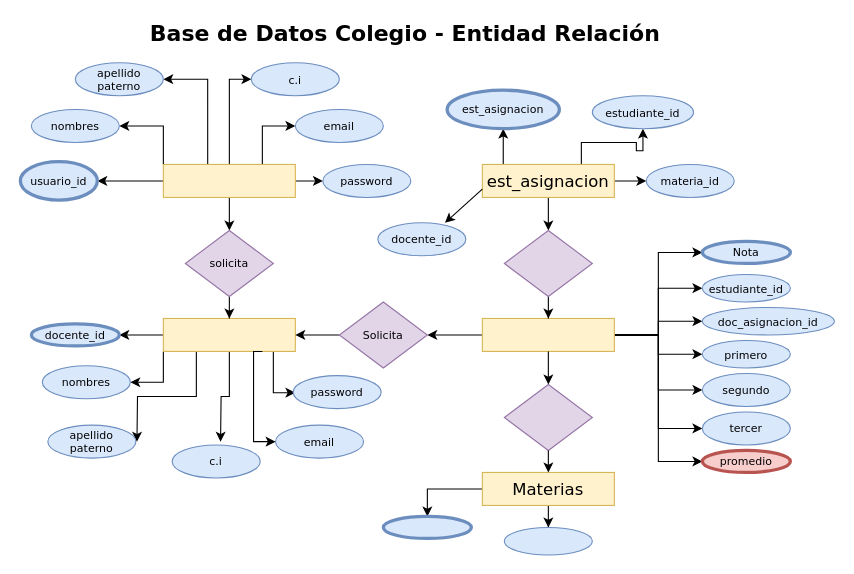
Some shapes in this 854 by 574 pixel diagram are drawn without their labels. Each missing label, with the centre of its shape:
"Docente" goes at pixel 228 334.
"escribe" goes at pixel 547 262.
"Materia _id" goes at pixel 426 527.
"nombre" goes at pixel 547 540.
"Notas" goes at pixel 547 334.
"pertenece" goes at pixel 547 416.
"usuarios" goes at pixel 228 180.
